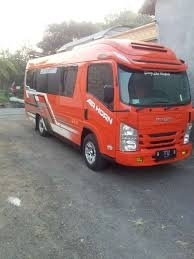plate: (157, 147, 178, 158)
